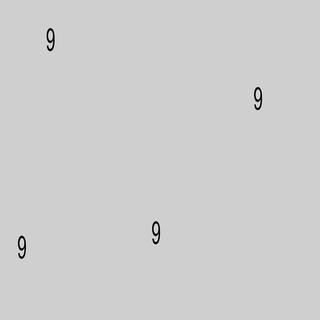nine: (41, 23, 65, 57), (146, 218, 169, 251), (249, 84, 267, 116), (13, 229, 29, 260)
